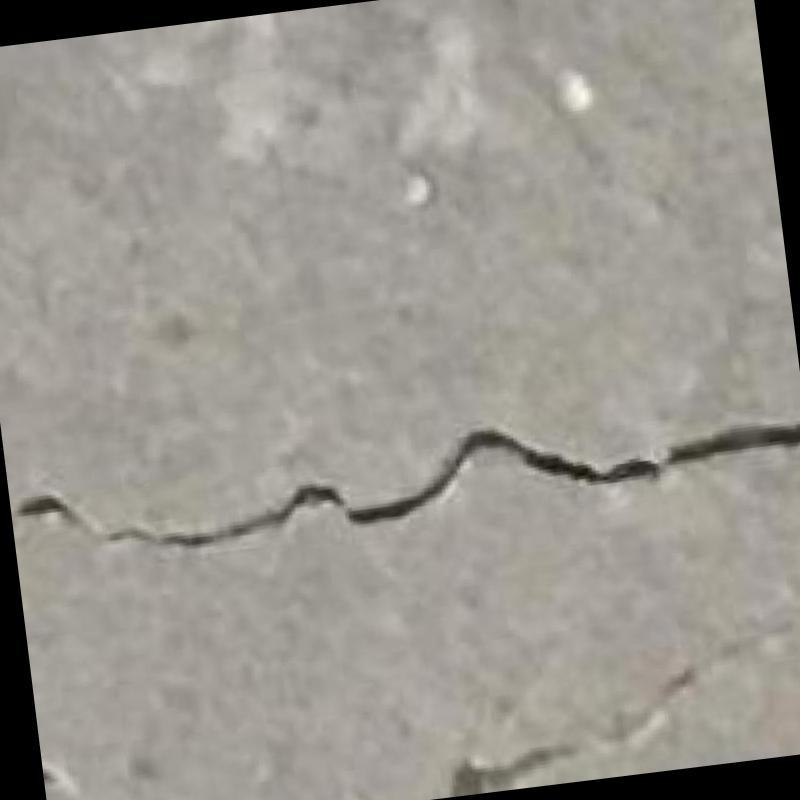pothole: (17, 421, 800, 547)
